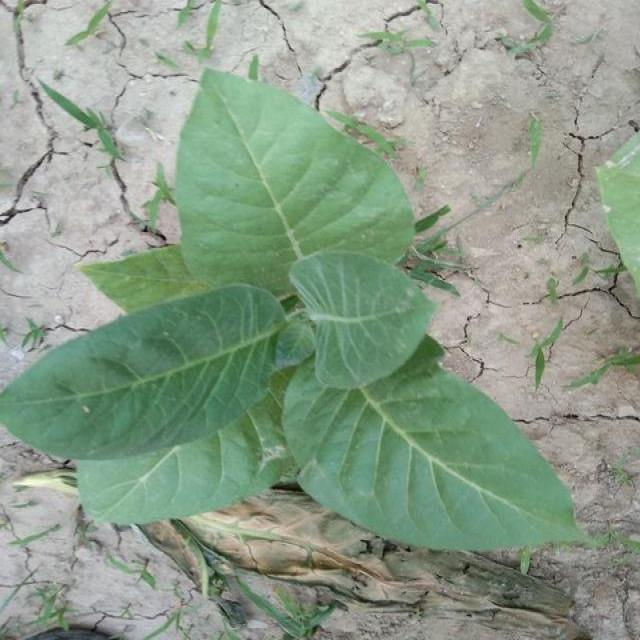crop: (1, 60, 608, 566)
